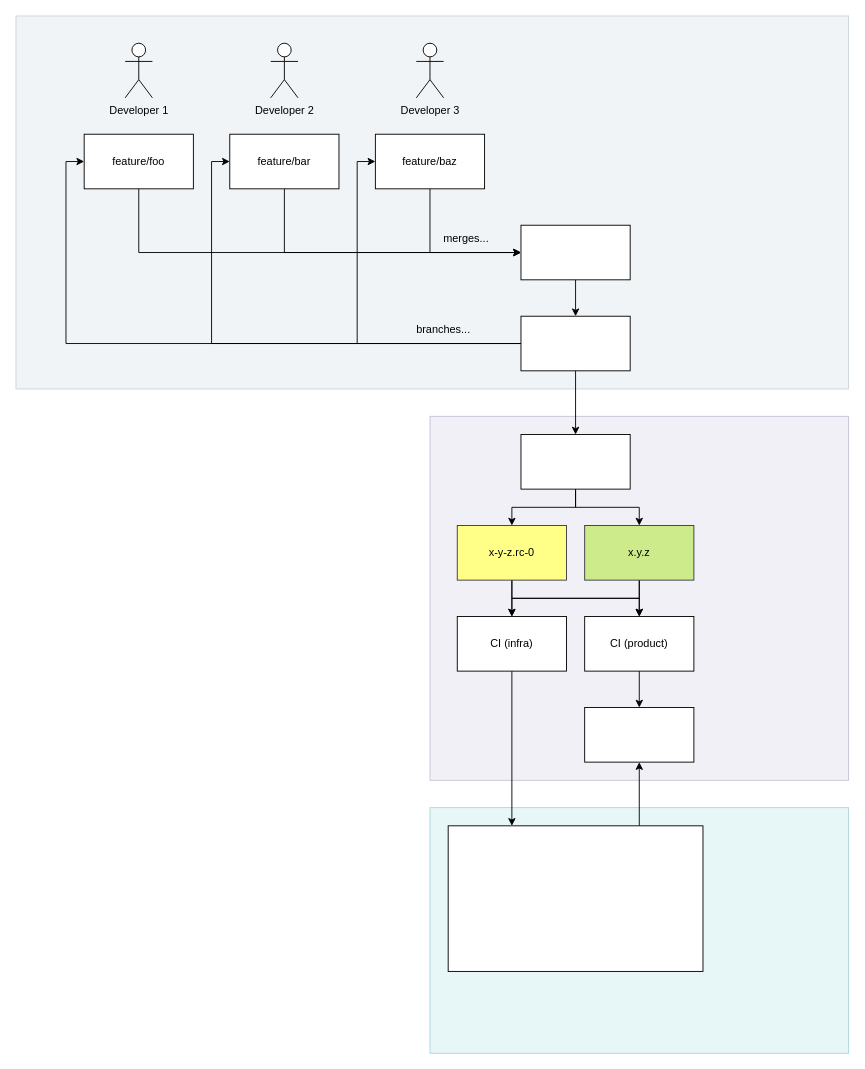
The diagram is 865 pixels wide and 1069 high, and some of its shapes have lost their labels. Each missing label, with the box of its shape:
AWS + K8s + Argo: (447, 825, 703, 971)
Container registry: (584, 707, 694, 762)
GitHub Actions e2e, unit, integration: (520, 224, 630, 280)
main: (520, 315, 630, 371)
release/x-y: (520, 434, 630, 489)
